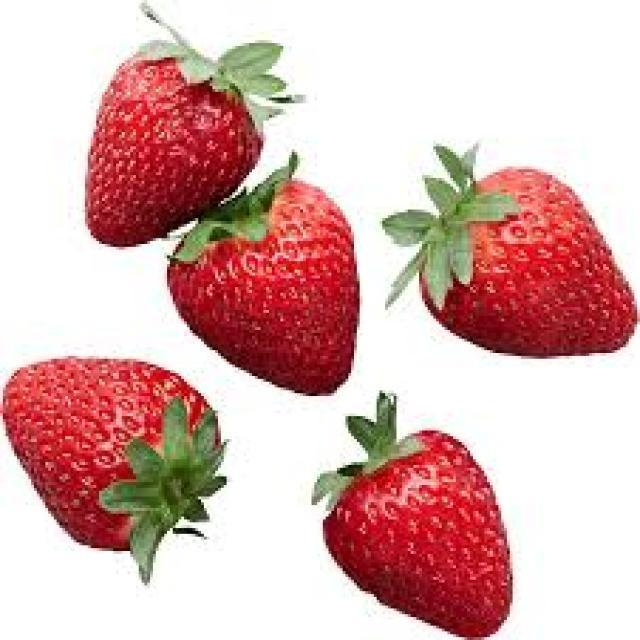Strawberry: (168, 174, 365, 396), (422, 161, 636, 365), (4, 354, 223, 550), (324, 434, 520, 636), (87, 39, 260, 249)
